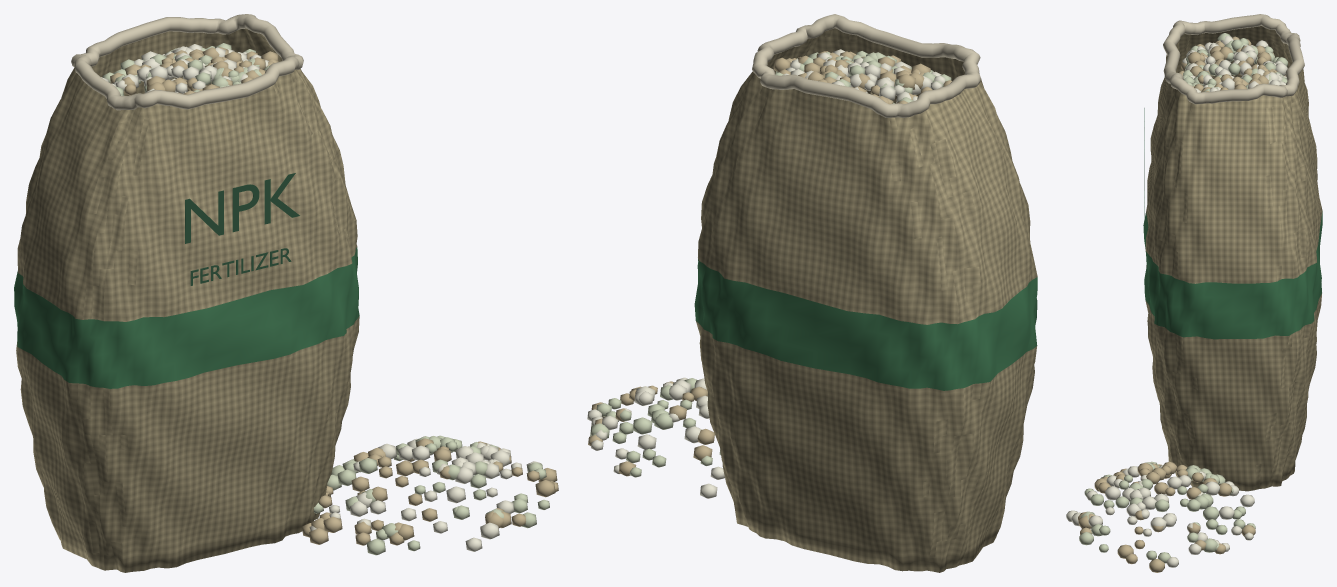
Rendered from nutrition.glb.
The picture shows the model from 3 angles, left to right: view 1: azimuth 30°, elevation 25°; view 2: azimuth 150°, elevation 25°; view 3: azimuth 270°, elevation 25°; orthographic projection. The views are drawn at different scales.
Parts seen in each view (by area): view 1: Open woven fertilizer sack, Granular fertilizer 1, Rolled sack opening, Granular fertilizer 0, Granular fertilizer 2, NPK, FERTILIZER; view 2: Open woven fertilizer sack, Rolled sack opening, Granular fertilizer 0, Granular fertilizer 1, Granular fertilizer 2; view 3: Open woven fertilizer sack, Granular fertilizer 0, Granular fertilizer 2, Granular fertilizer 1, Rolled sack opening.
Part boxes in pixels (x1,y1,x2,y2): Open woven fertilizer sack: [14, 28, 359, 572]; Granular fertilizer 1: [110, 47, 558, 545]; Rolled sack opening: [71, 14, 303, 110]; Granular fertilizer 0: [101, 44, 541, 551]; Granular fertilizer 2: [102, 43, 549, 555]; NPK: [185, 173, 299, 243]; FERTILIZER: [190, 248, 291, 285]; Open woven fertilizer sack: [694, 28, 1037, 572]; Rolled sack opening: [752, 14, 981, 117]; Granular fertilizer 0: [587, 49, 945, 498]; Granular fertilizer 1: [588, 51, 951, 476]; Granular fertilizer 2: [590, 51, 951, 477]; Open woven fertilizer sack: [1143, 26, 1322, 491]; Granular fertilizer 0: [1066, 35, 1287, 567]; Granular fertilizer 2: [1079, 33, 1287, 563]; Granular fertilizer 1: [1078, 36, 1285, 572]; Rolled sack opening: [1163, 14, 1304, 104].
Size of the model in its own units: 2.61 by 2.52 by 1.48.
7 materials, 1 textured.
